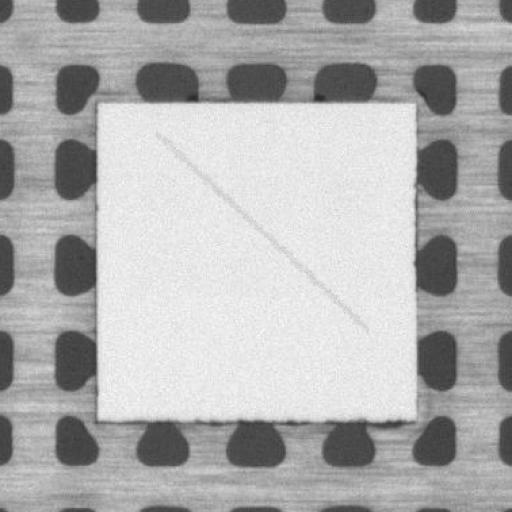DIE_CRACK: (155, 133, 366, 329)
